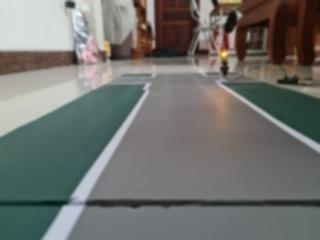yellow: (216, 40, 236, 66)
